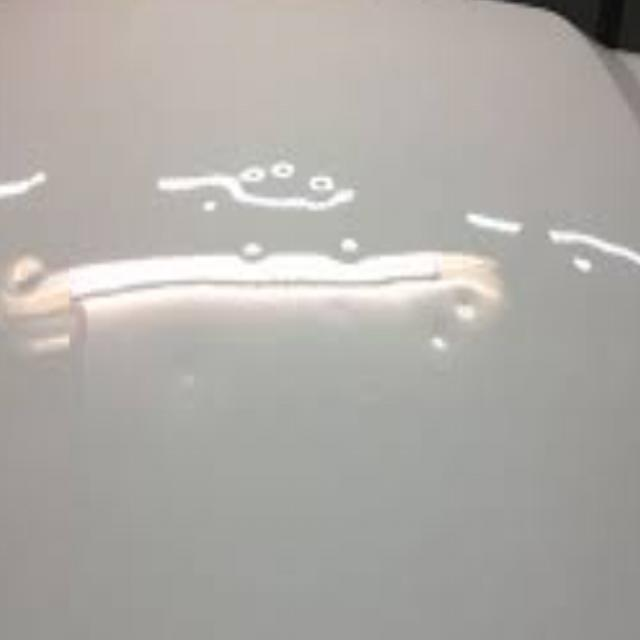dents: (7, 235, 51, 313), (440, 280, 484, 335), (422, 315, 460, 371), (194, 182, 232, 227), (232, 237, 271, 280), (332, 225, 363, 275), (268, 143, 296, 190), (304, 161, 335, 202), (238, 161, 265, 194)
